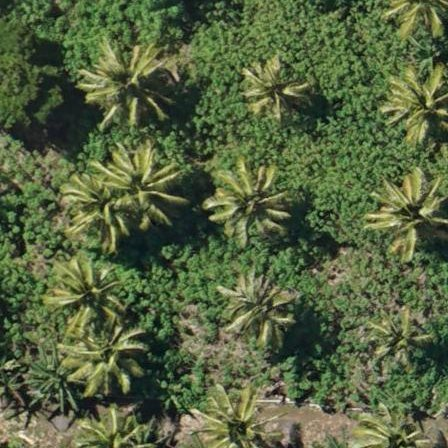palm_tree: (368, 168, 448, 259), (207, 166, 286, 250), (59, 317, 138, 400), (89, 36, 165, 117), (381, 62, 448, 149), (107, 145, 179, 222), (217, 272, 286, 346), (60, 175, 134, 242), (194, 388, 271, 448), (240, 57, 305, 124), (54, 258, 118, 326), (357, 400, 432, 448), (369, 313, 428, 368)
